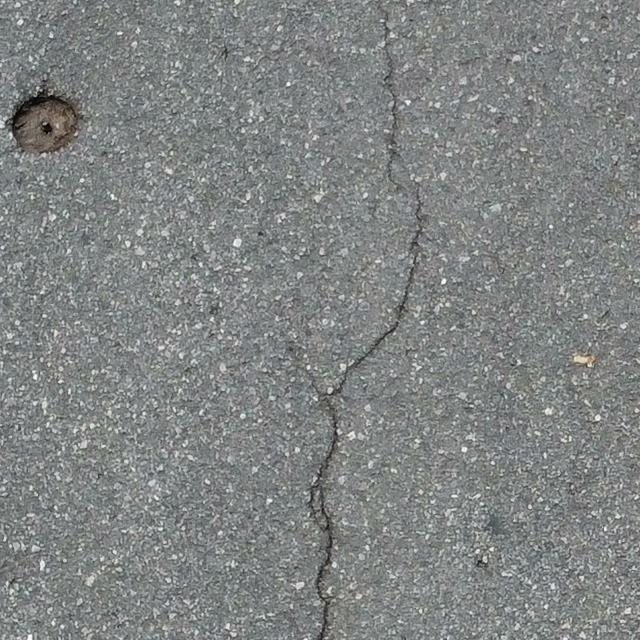LongitudinalCrack: (300, 7, 423, 640)
